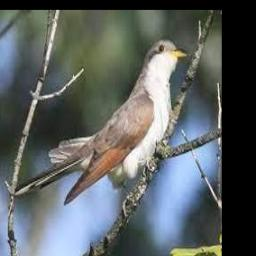Cuckoo: (49, 40, 187, 206)
